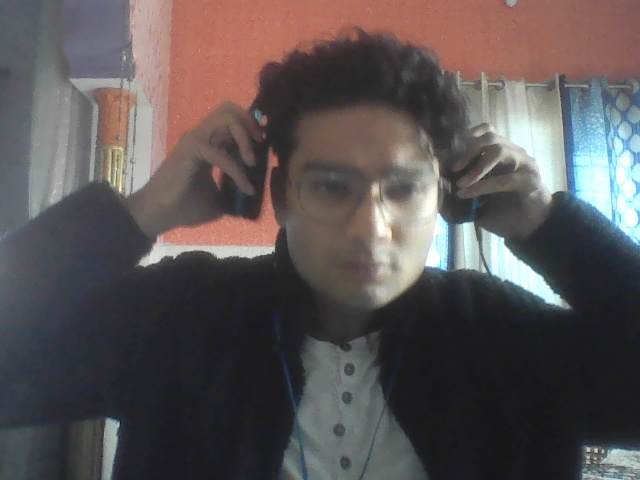real: (248, 37, 455, 331)
